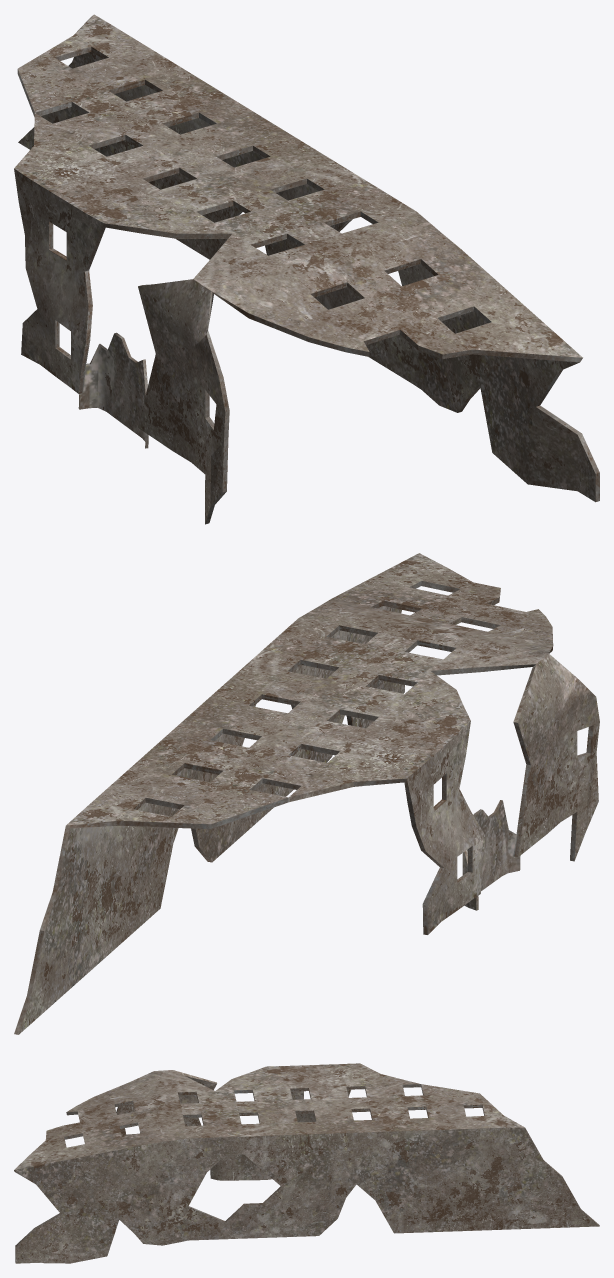
The model's file is EdificioGrande.obj.
The picture shows the model from 3 angles, top to bottom: view 1: azimuth 30°, elevation 25°; view 2: azimuth 150°, elevation 25°; view 3: azimuth 270°, elevation 25°; orthographic projection. The views are drawn at different scales.
Visible parts, largest first — view 1: Box108; view 2: Box108; view 3: Box108.
Part boxes in pixels (left/top/right/bottom): Box108: left=14, top=14, right=599, bottom=524; Box108: left=14, top=553, right=599, bottom=1034; Box108: left=14, top=1063, right=599, bottom=1263.
Size of the model in its own units: 143 by 100 by 401.
1 material, 1 textured.
